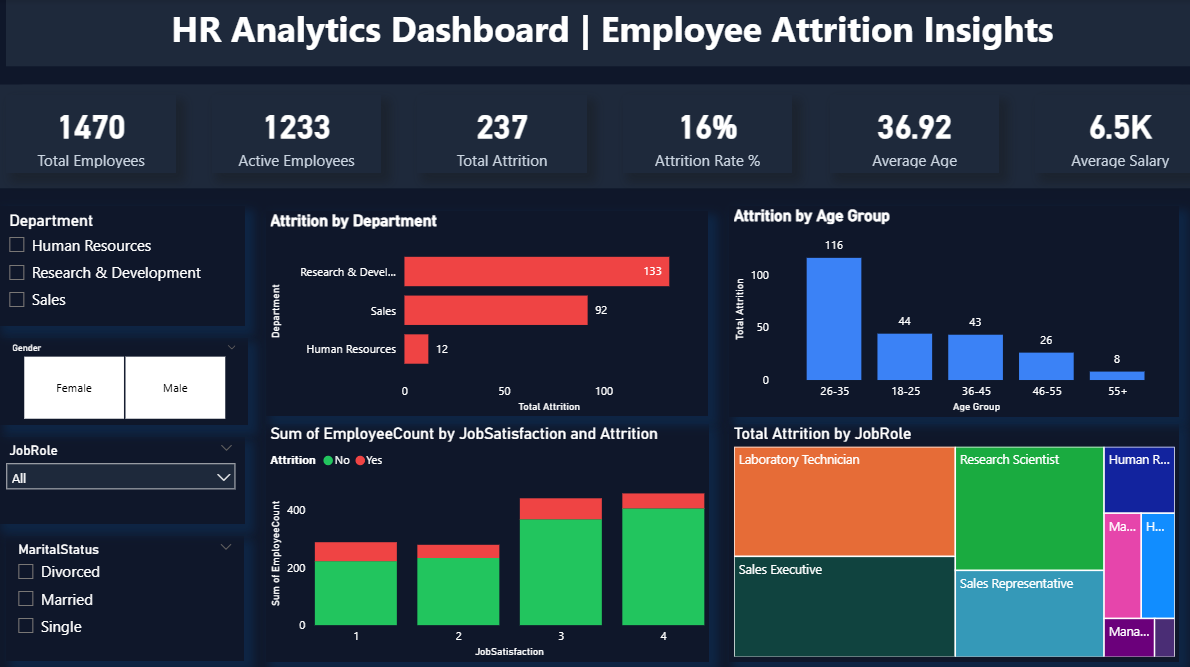

This screenshot's page, from the dashboard's own definition file:
{"tool":"powerbi","page":{"name":"Page 1","canvas":[1280,720],"ordinal":0},"visuals":[{"type":"shape","box":[9.5,0,1259.8,71.6],"z":0},{"type":"textbox","box":[180,0,968,90],"z":1},{"type":"shape","box":[0,90,1280,110],"z":2},{"type":"card","fields":{"Values":["IBM HR Employee Attrition Data.Total Employees"]},"box":[10,102.5,180,82.5],"z":3},{"type":"card","fields":{"Values":["IBM HR Employee Attrition Data.Active Employees"]},"box":[228,102.5,180,82.5],"z":4},{"type":"card","fields":{"Values":["IBM HR Employee Attrition Data.Total Attrition"]},"box":[446,102.5,180,82.5],"z":5},{"type":"card","fields":{"Values":["IBM HR Employee Attrition Data.Attrition Rate %"]},"box":[664,102.5,180,82.5],"z":6},{"type":"card","fields":{"Values":["IBM HR Employee Attrition Data.Average Age"]},"box":[882,102.5,180,82.5],"z":7},{"type":"card","fields":{"Values":["IBM HR Employee Attrition Data.Average Salary"]},"box":[1100,102.5,180,82.5],"z":8},{"type":"clusteredBarChart","title":"Attrition by Department","fields":{"Category":["IBM HR Employee Attrition Data.Department"],"Y":["IBM HR Employee Attrition Data.Total Attrition"]},"box":[285.1,224.8,469.2,218.3],"z":9},{"type":"clusteredColumnChart","title":"Attrition by Age Group","fields":{"Category":["IBM HR Employee Attrition Data.Age Group"],"Y":["IBM HR Employee Attrition Data.Total Attrition"]},"box":[775.5,219.9,477.4,223.2],"z":10},{"type":"columnChart","fields":{"Category":["IBM HR Employee Attrition Data.JobSatisfaction"],"Series":["IBM HR Employee Attrition Data.Attrition"],"Y":["Sum(IBM HR Employee Attrition Data.EmployeeCount)"]},"box":[285,450,470,252.5],"z":11},{"type":"treemap","fields":{"Group":["IBM HR Employee Attrition Data.JobRole"],"Values":["IBM HR Employee Attrition Data.Total Attrition"]},"box":[775.5,449.7,477.4,252.5],"z":12},{"type":"slicer","fields":{"Values":["IBM HR Employee Attrition Data.Department"]},"box":[0,220,262.5,127.5],"z":13},{"type":"slicer","fields":{"Values":["IBM HR Employee Attrition Data.Gender"]},"box":[2.5,360,262.5,92.5],"z":14},{"type":"slicer","fields":{"Values":["IBM HR Employee Attrition Data.JobRole"]},"box":[0,465,262.5,92.5],"z":15},{"type":"slicer","fields":{"Values":["IBM HR Employee Attrition Data.MaritalStatus"]},"box":[10,570,252.5,132.5],"z":16}]}

Visuals, with their boxes in screenshot pixels (x1, y1, x2, y2), scaled from the page's 1280x720 canvas onto the 1190x667 screenshot:
shape: bbox=[9, 0, 1180, 66]
textbox: bbox=[167, 0, 1067, 83]
shape: bbox=[0, 83, 1189, 185]
card - IBM HR Employee Attrition Data.Total Employees: bbox=[9, 95, 177, 171]
card - IBM HR Employee Attrition Data.Active Employees: bbox=[212, 95, 379, 171]
card - IBM HR Employee Attrition Data.Total Attrition: bbox=[415, 95, 582, 171]
card - IBM HR Employee Attrition Data.Attrition Rate %: bbox=[617, 95, 785, 171]
card - IBM HR Employee Attrition Data.Average Age: bbox=[820, 95, 987, 171]
card - IBM HR Employee Attrition Data.Average Salary: bbox=[1023, 95, 1189, 171]
"Attrition by Department" clusteredBarChart: bbox=[265, 208, 701, 410]
"Attrition by Age Group" clusteredColumnChart: bbox=[721, 204, 1165, 410]
columnChart - IBM HR Employee Attrition Data.JobSatisfaction x IBM HR Employee Attrition Data.Attrition: bbox=[265, 417, 702, 651]
treemap - IBM HR Employee Attrition Data.JobRole x IBM HR Employee Attrition Data.Total Attrition: bbox=[721, 417, 1165, 651]
slicer - IBM HR Employee Attrition Data.Department: bbox=[0, 204, 244, 322]
slicer - IBM HR Employee Attrition Data.Gender: bbox=[2, 334, 246, 419]
slicer - IBM HR Employee Attrition Data.JobRole: bbox=[0, 431, 244, 516]
slicer - IBM HR Employee Attrition Data.MaritalStatus: bbox=[9, 528, 244, 651]
